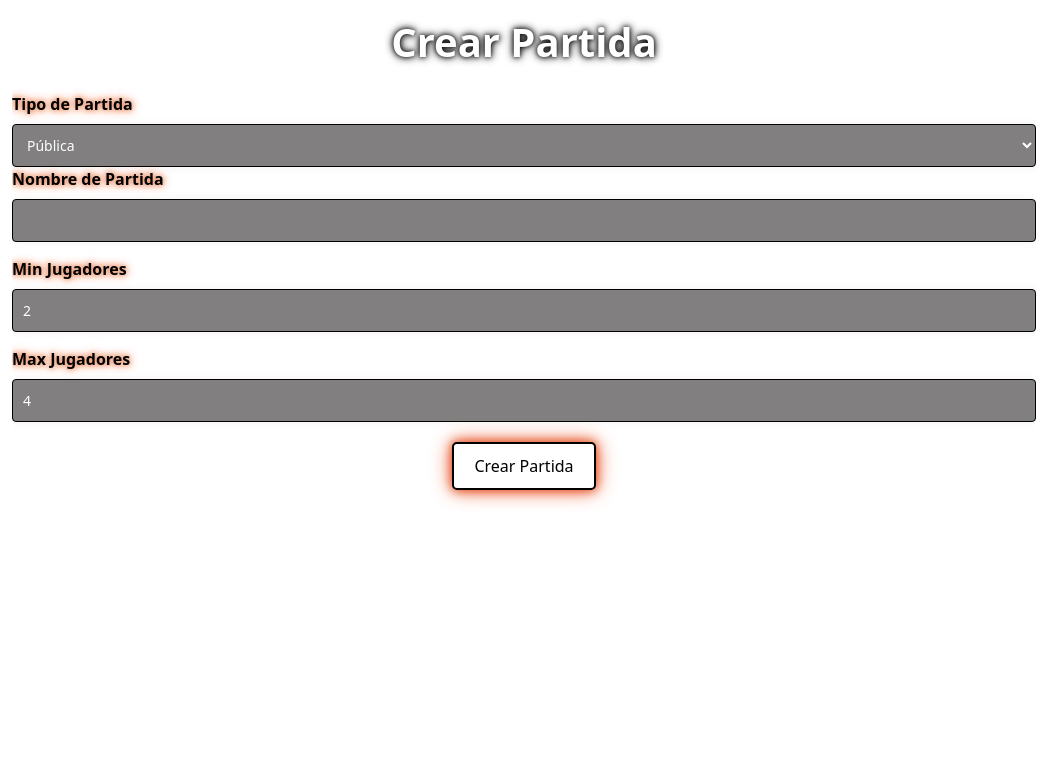
CrearPartida Component › Muestra y oculta correctamente el campo de contraseña para partidas privadas
Select "Privada" in the dropdown labelled "Tipo de Partida" at (524,146), box [12,124,1036,167]
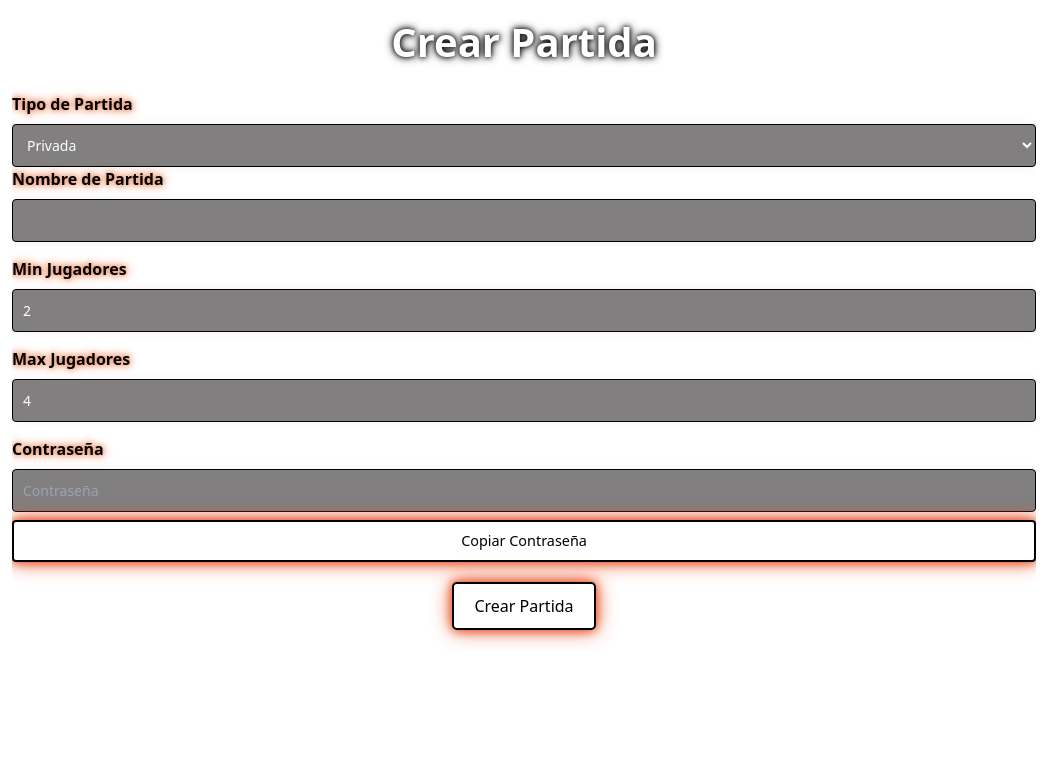
Expected: the password field labelled "Contraseña" is shown, [12,469,1036,512]
Select "Pública" in the dropdown labelled "Tipo de Partida" at (524,146), box [12,124,1036,167]
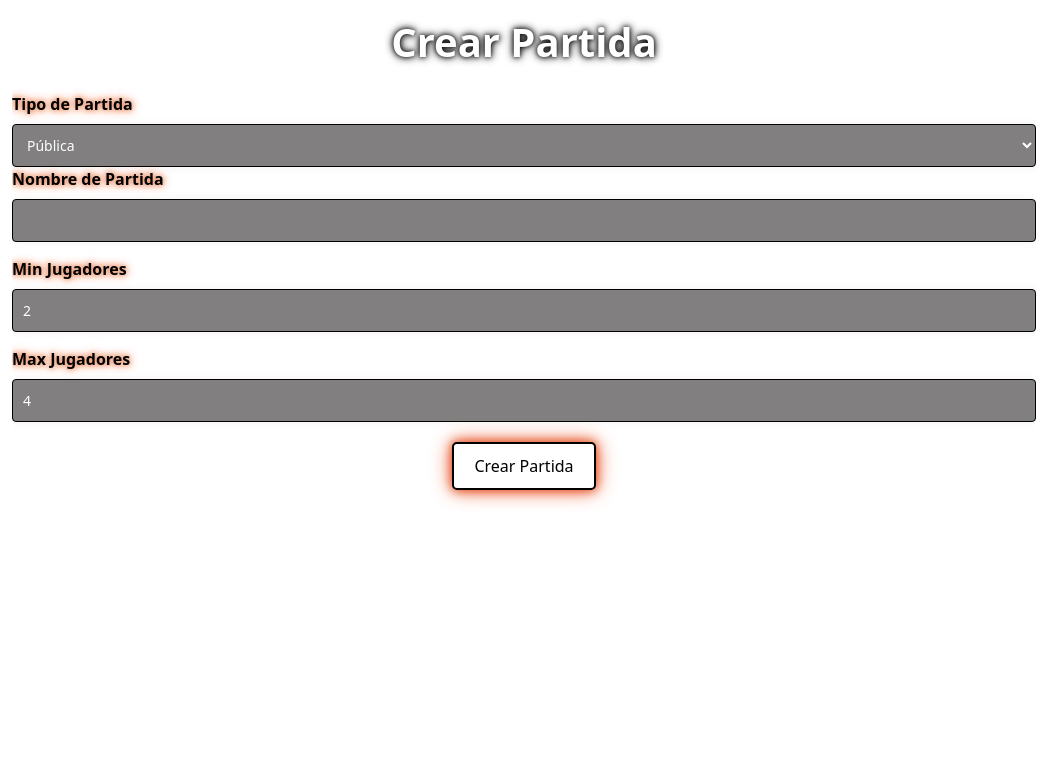
Expected: the label labelled "Contraseña" is gone
